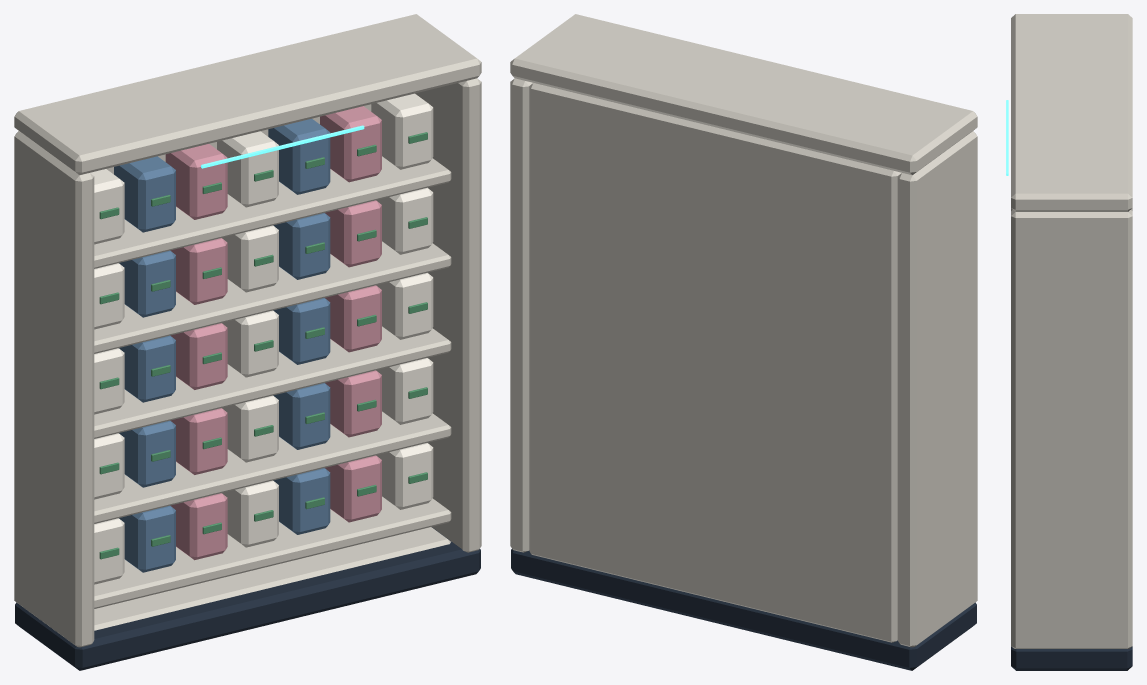
Rendered from clinic_04.glb.
The picture shows the model from 3 angles, left to right: view 1: azimuth 30°, elevation 25°; view 2: azimuth 150°, elevation 25°; view 3: azimuth 270°, elevation 25°; orthographic projection. The views are drawn at different scales.
Visible parts, largest first — view 1: MedicineBox (×35), Side (×2), Shelf (×5), Top, Base, Bottom, StatusLight; view 2: Back, Side (×2), Top, Base; view 3: Side, Top, Base, StatusLight.
Part boxes in pixels (x1,y1,x2,y2): MedicineBox (×35): [90, 93, 433, 584]; Side (×2): [14, 78, 481, 647]; Shelf (×5): [94, 156, 451, 608]; Top: [14, 14, 481, 175]; Base: [15, 527, 480, 670]; Bottom: [94, 527, 450, 630]; StatusLight: [201, 125, 364, 168]; Back: [529, 83, 901, 642]; Side (×2): [510, 78, 977, 647]; Top: [510, 14, 977, 175]; Base: [511, 549, 976, 670]; Side: [1011, 210, 1132, 648]; Top: [1011, 14, 1132, 211]; Base: [1011, 646, 1132, 670]; StatusLight: [1006, 100, 1008, 175].
Bounding box in the file's own units: 1.5 × 1.82 × 0.436.
